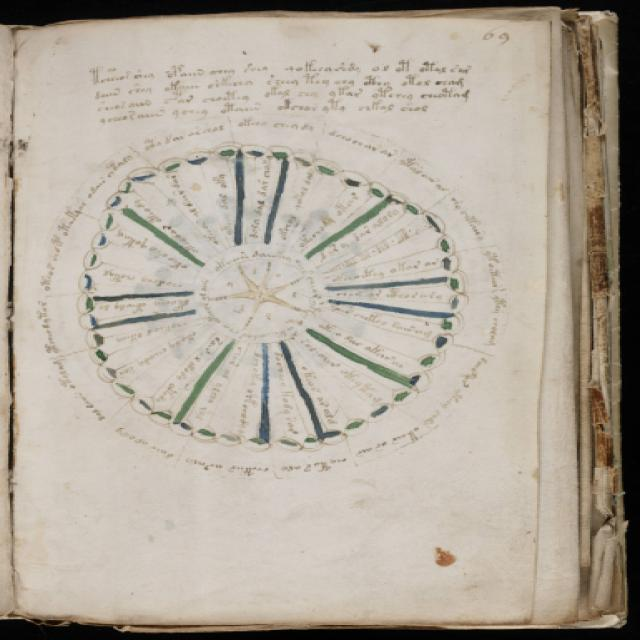ornament_circle: (33, 113, 516, 484)
